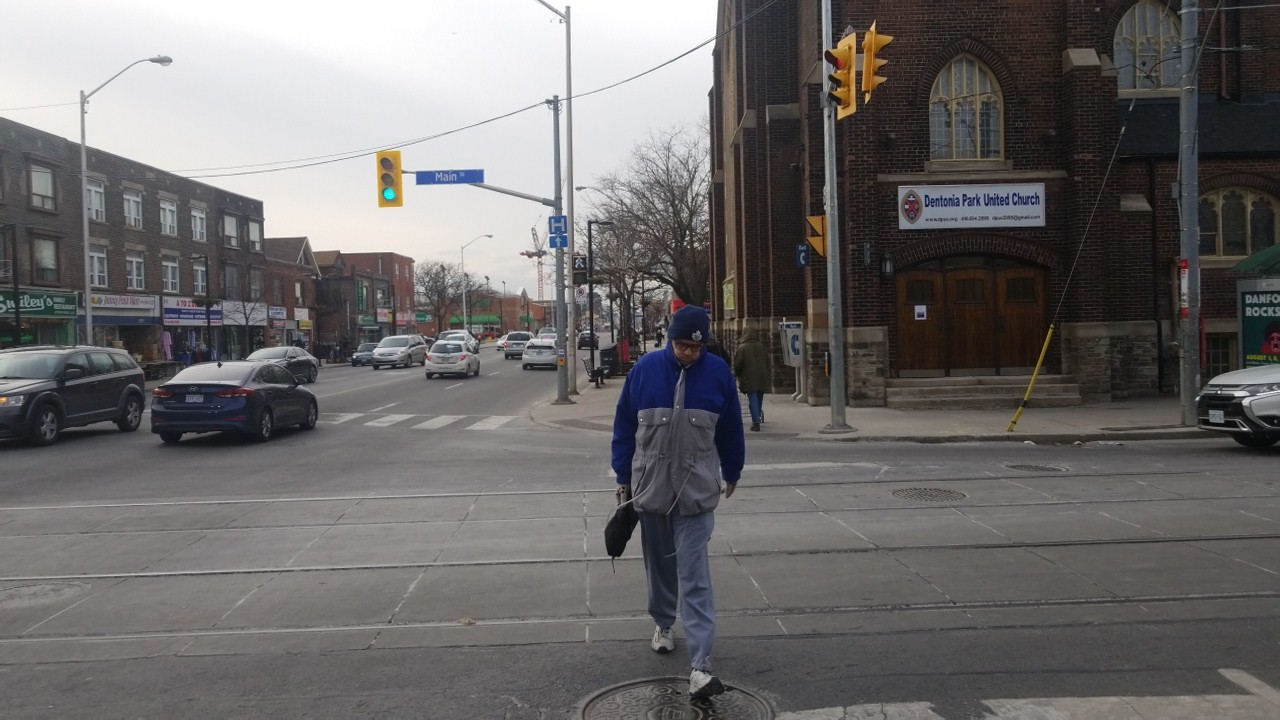light: (569, 254, 589, 287)
